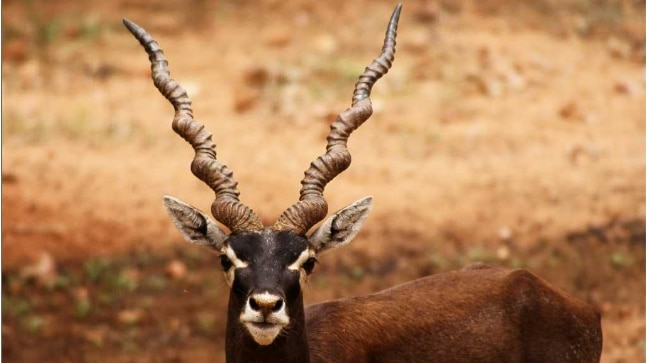Blackbuck: (121, 4, 604, 363)
